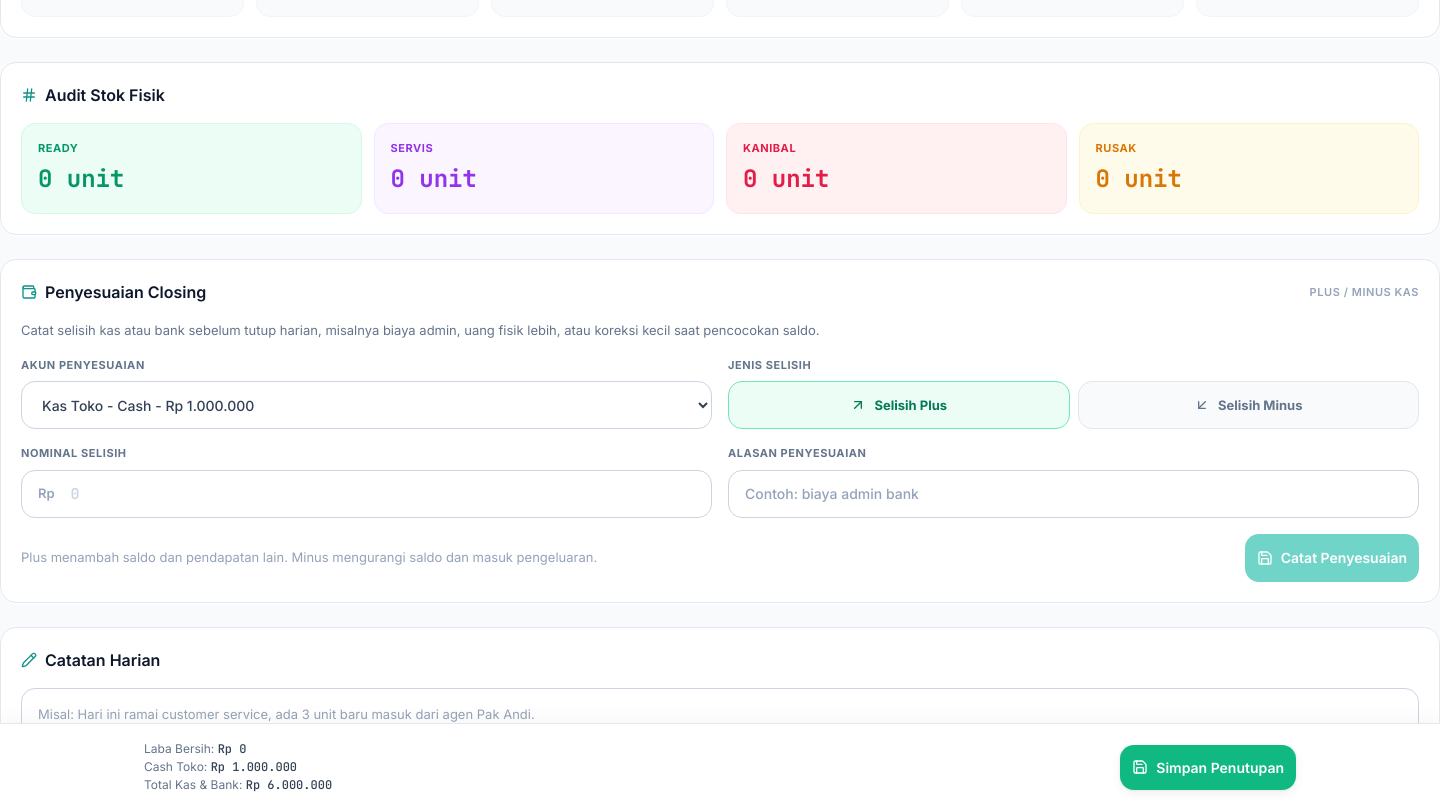
Test: TutupHarian closing adjustments › records a closing minus as Pengeluaran with a money_out posting
(page scrolled)
Check: the heading "Penyesuaian Closing" is shown, box [45,280,206,304]
Select "BCA - Bank - Rp 5.000.000" in the dropdown labelled "Akun Penyesuaian" at (366,405), box [21,381,712,429]
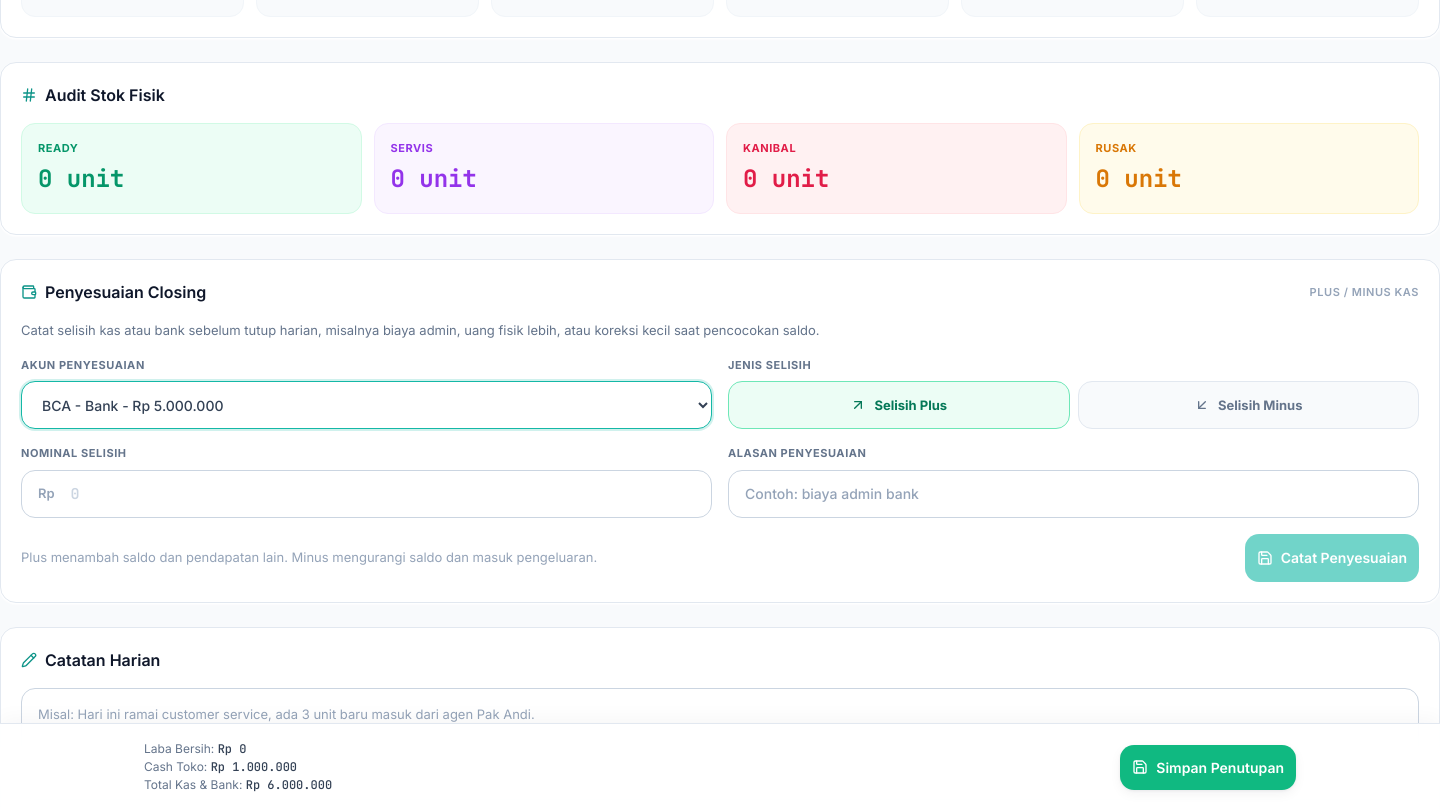
Click the button "Selisih Minus" at (1248,405), box [1078,381,1419,429]
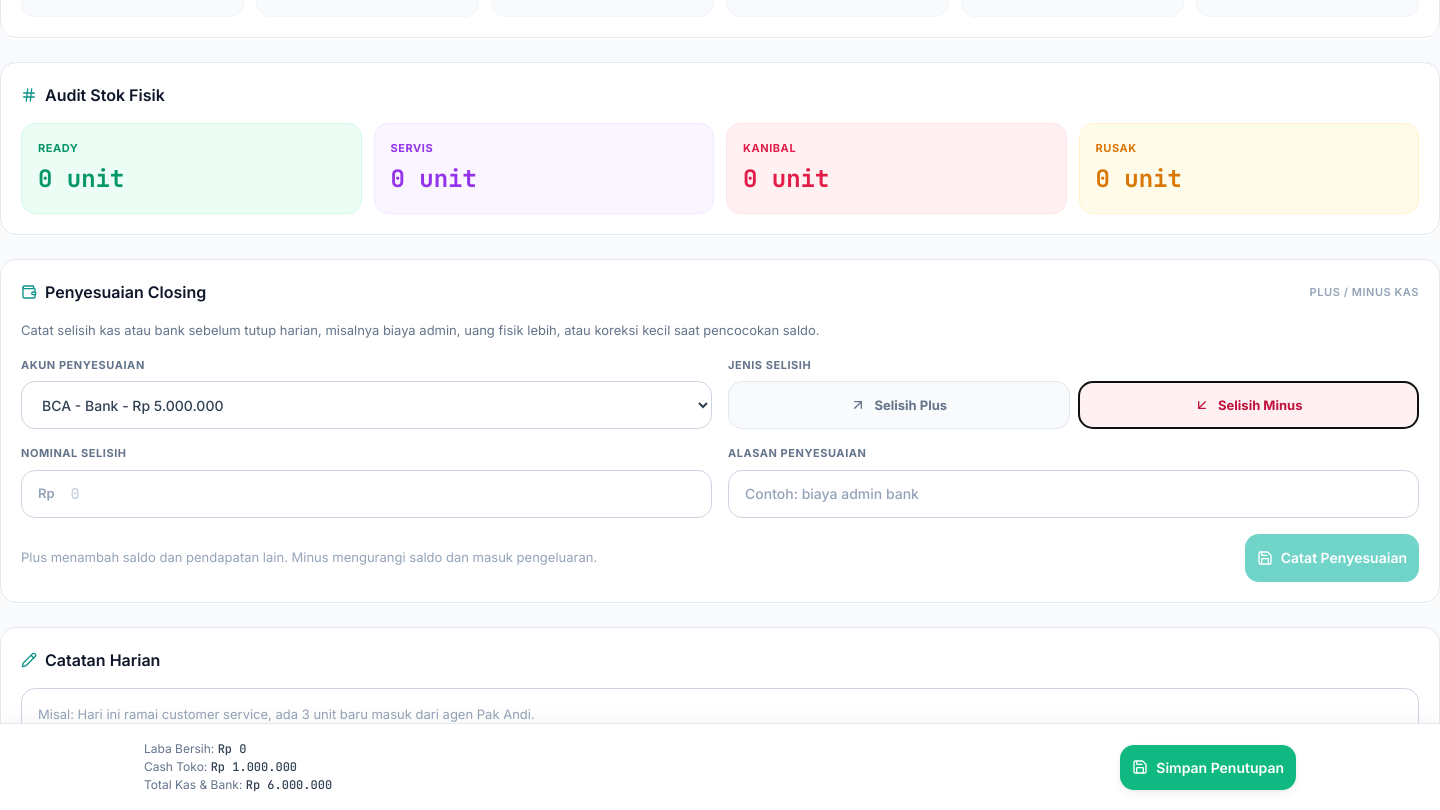
Type "20000" into the field labelled "Nominal Selisih" at (391,494), box [71,483,711,505]
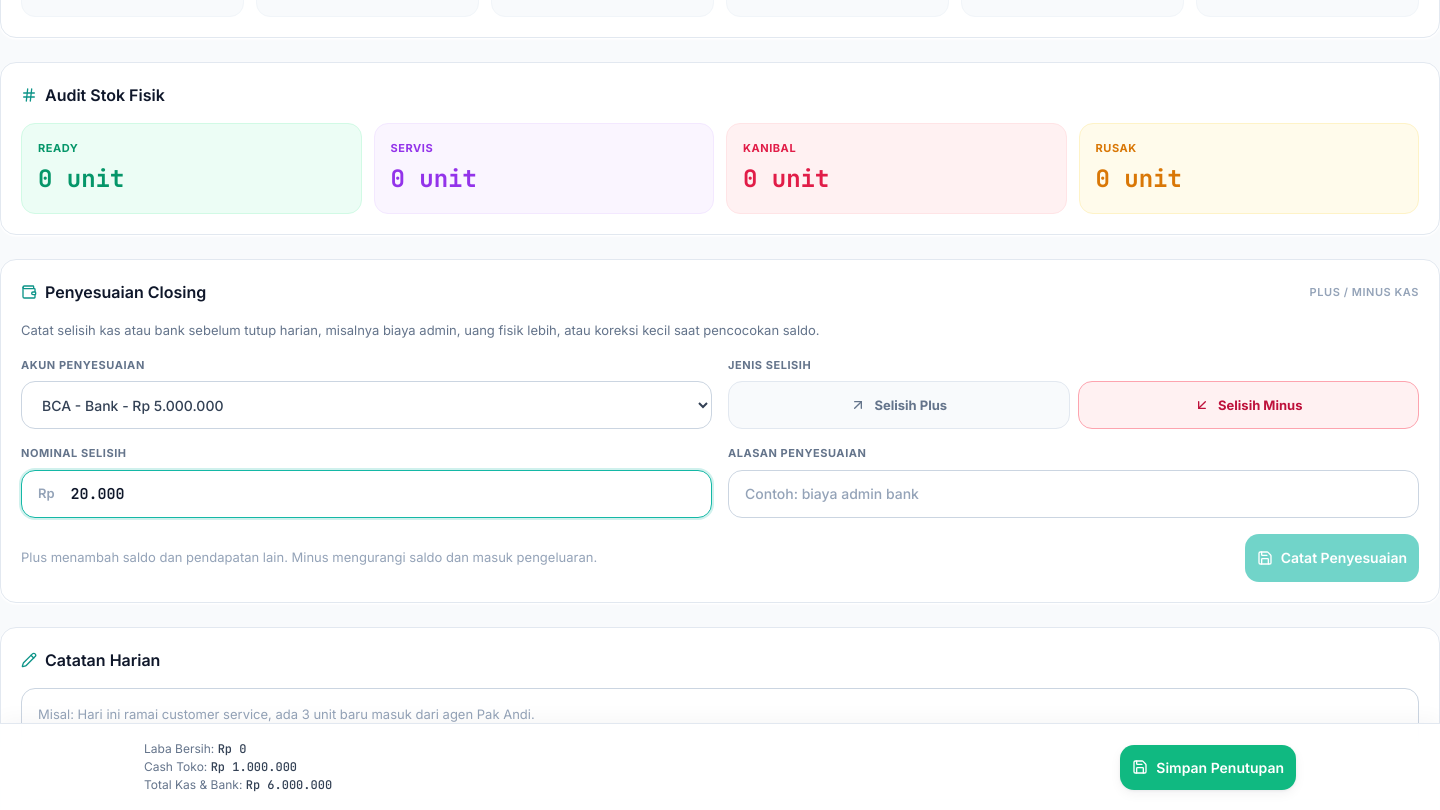
Type "Biaya admin bank" into the field labelled "Alasan Penyesuaian" at (1074,494), box [728,470,1419,518]
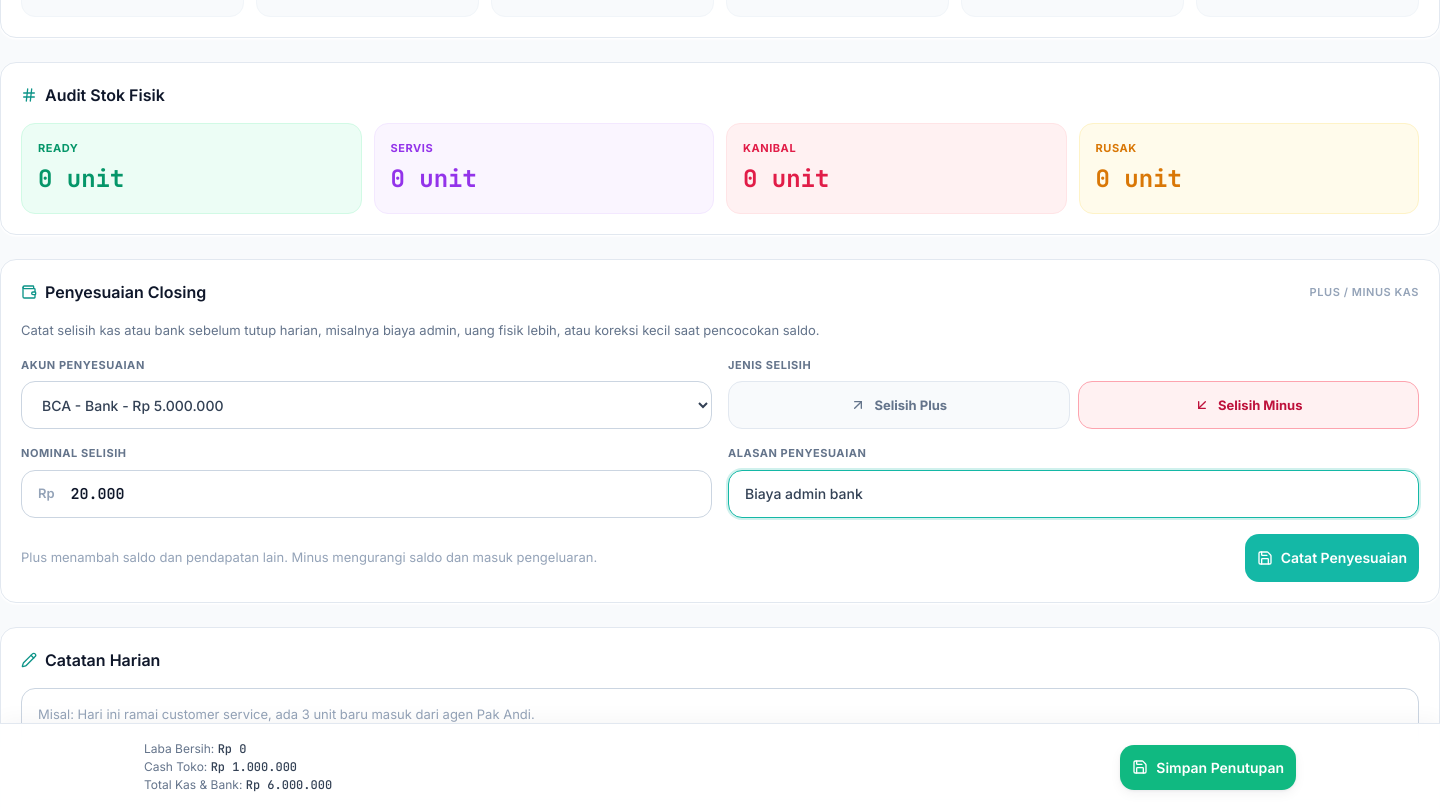
Click the button "Catat Penyesuaian" at (1332,558), box [1245,534,1419,582]
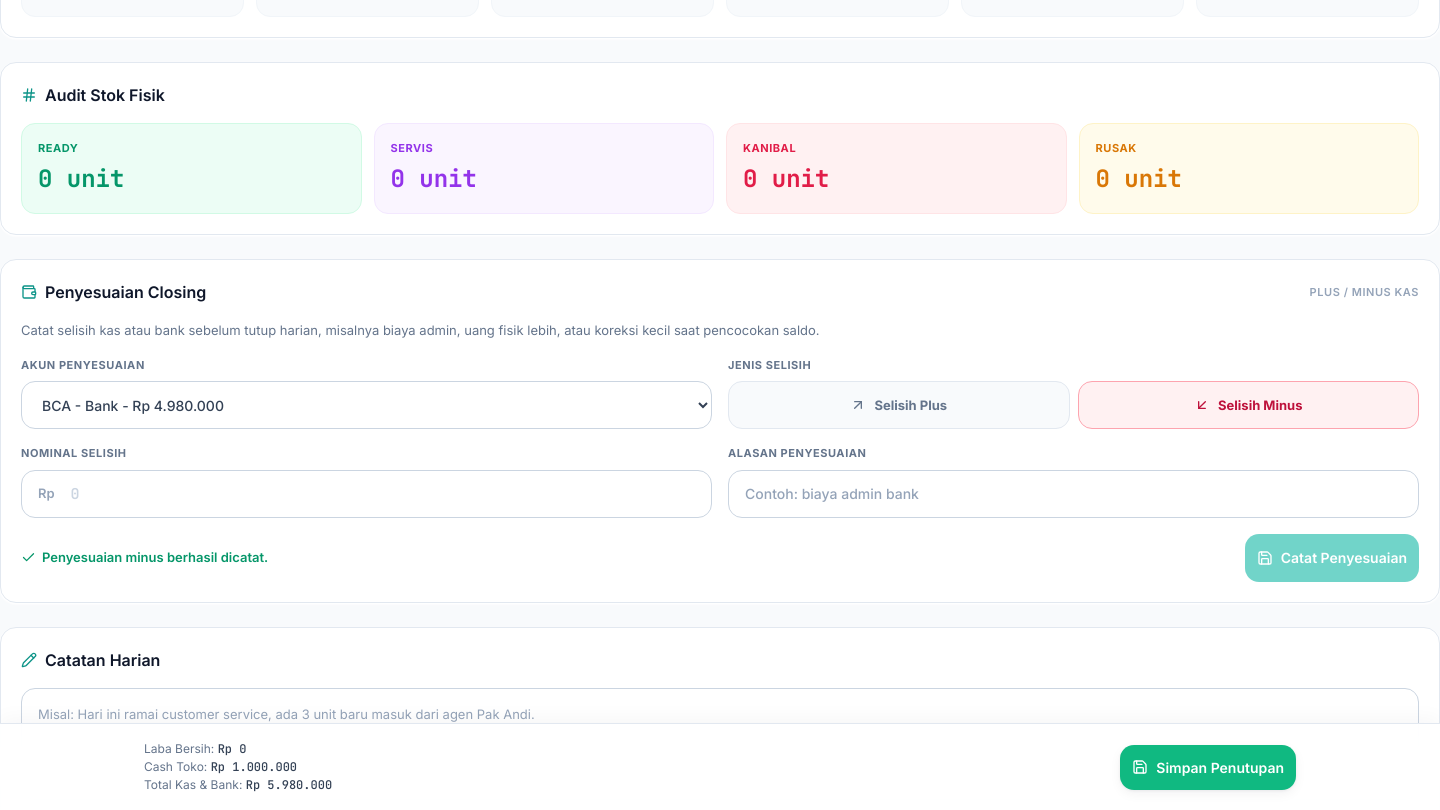
Check: the text "Penyesuaian minus berhasil dicatat." is shown, box [21,548,268,567]
